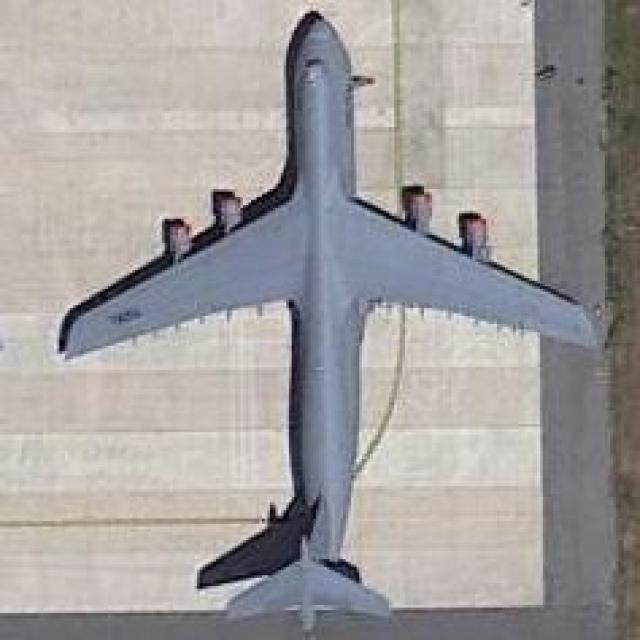C-5_TopDown: (54, 6, 605, 630)
